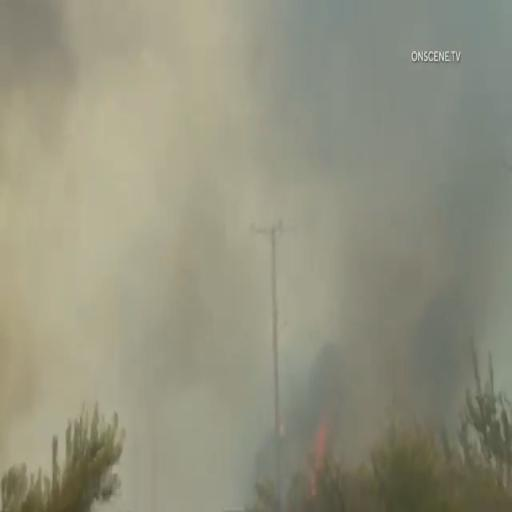smoke: (7, 0, 225, 323)
